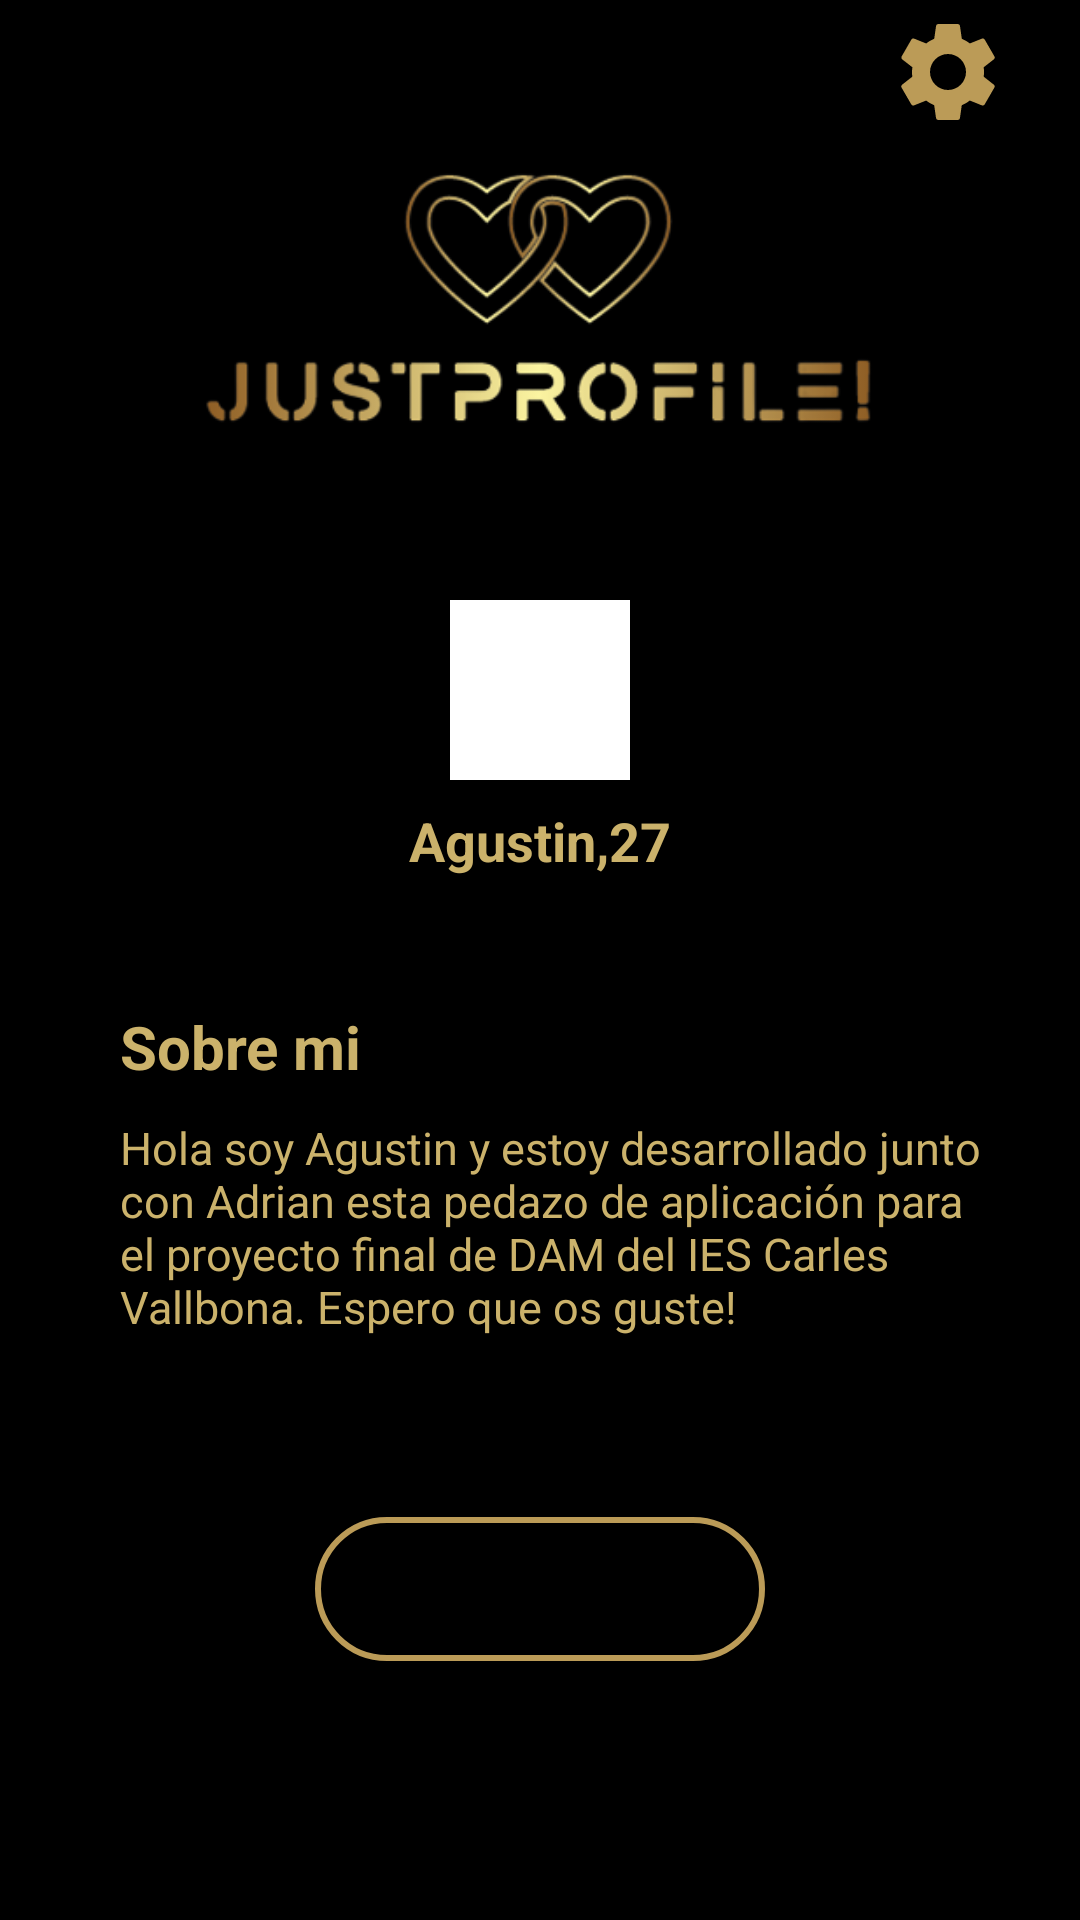

Point at icon controls on the screen. Image size 1080px x 1920px, points as [x,y].
settings: [948,72]
